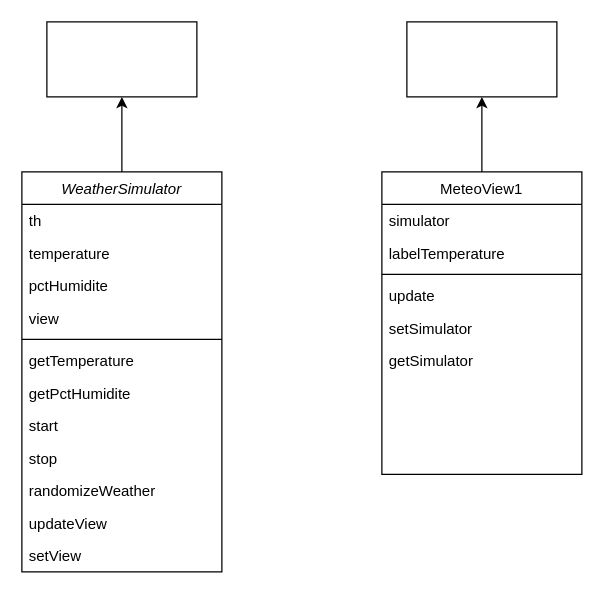
The diagram is 604 pixels wide and 598 high, and some of its shapes have lost their labels. Each missing label, with the centre of its shape:
"Observable" belongs at [121,59].
"Observer" belongs at [481,59].
